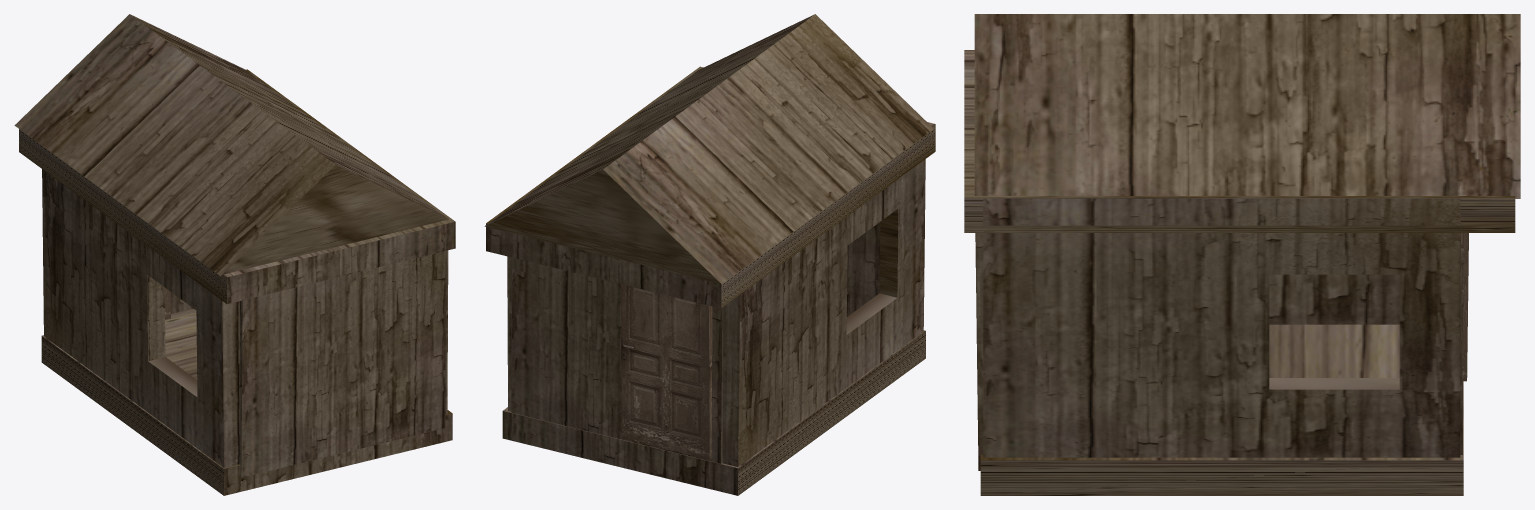
File: House.obj
The picture shows the model from 3 angles, left to right: view 1: azimuth 30°, elevation 25°; view 2: azimuth 150°, elevation 25°; view 3: azimuth 270°, elevation 25°; orthographic projection. The views are drawn at different scales.
Parts seen in each view (by area): view 1: Cube_Cube.001; view 2: Cube_Cube.001, door_Cube.006; view 3: Cube_Cube.001, door_Cube.006.
Part boxes in pixels (box(x1,y1,x2,y2)): Cube_Cube.001: box(14, 14, 455, 495); Cube_Cube.001: box(484, 14, 935, 495); door_Cube.006: box(621, 284, 712, 459); Cube_Cube.001: box(964, 14, 1520, 495); door_Cube.006: box(1461, 233, 1468, 381).
Bounding box in the file's own units: 5.88 × 7.34 × 9.13.
